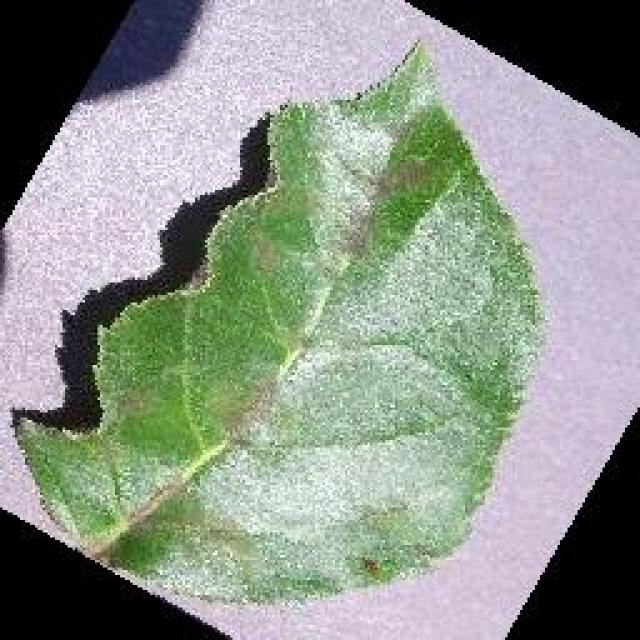apple scab disease: (10, 35, 548, 607)
